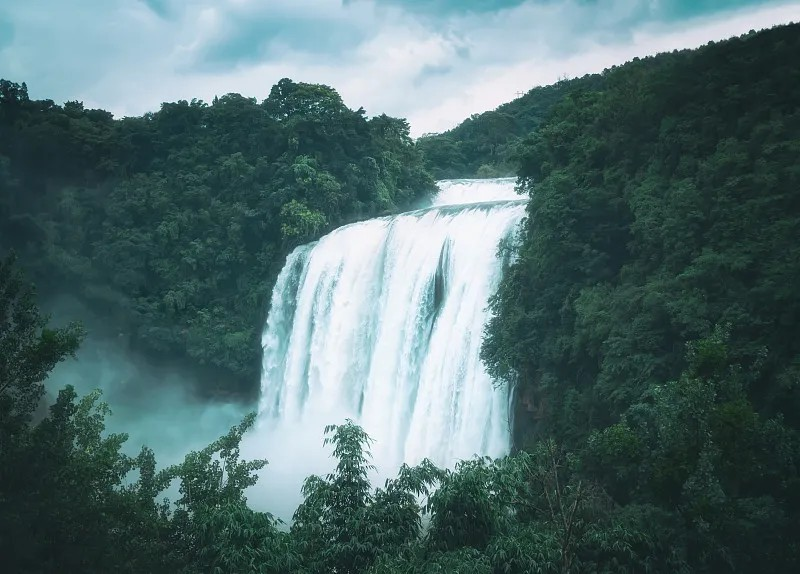Huangguoshu: (261, 178, 531, 471)
